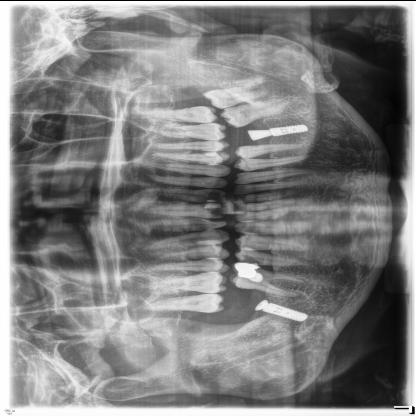ITI: (262, 298, 316, 325), (263, 122, 314, 140)
